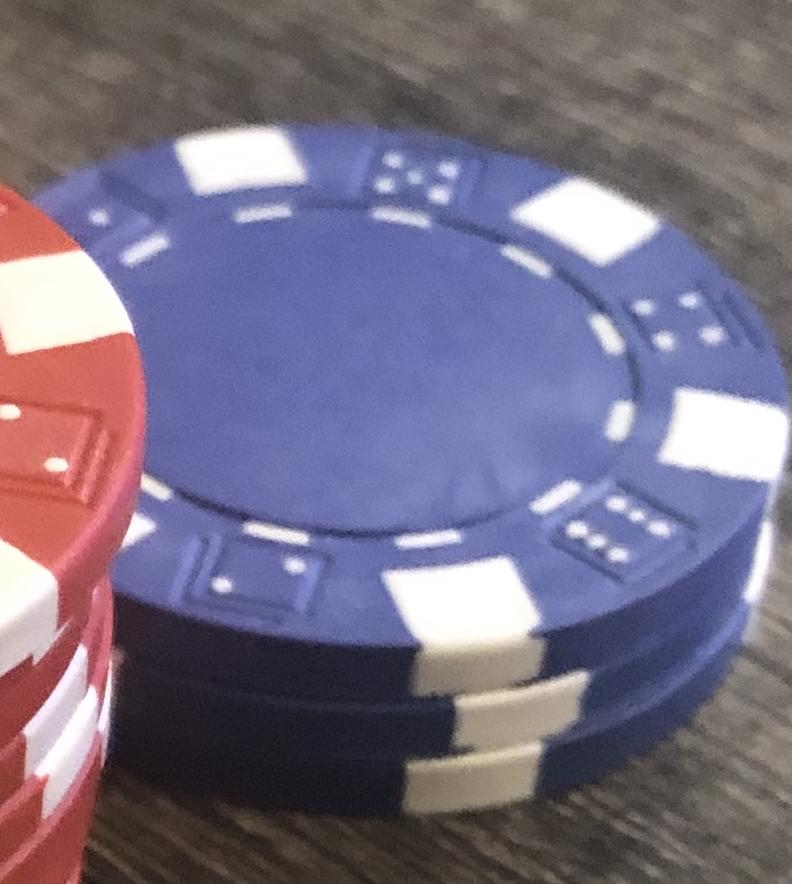Chip: (1, 1, 792, 884)
